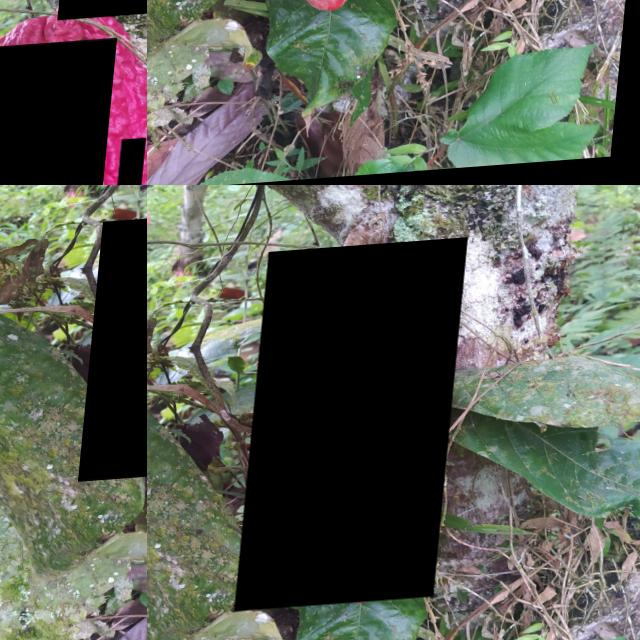Monilia: (0, 43, 120, 185), (86, 213, 147, 484)
Sana: (244, 244, 470, 614), (122, 143, 147, 185)
